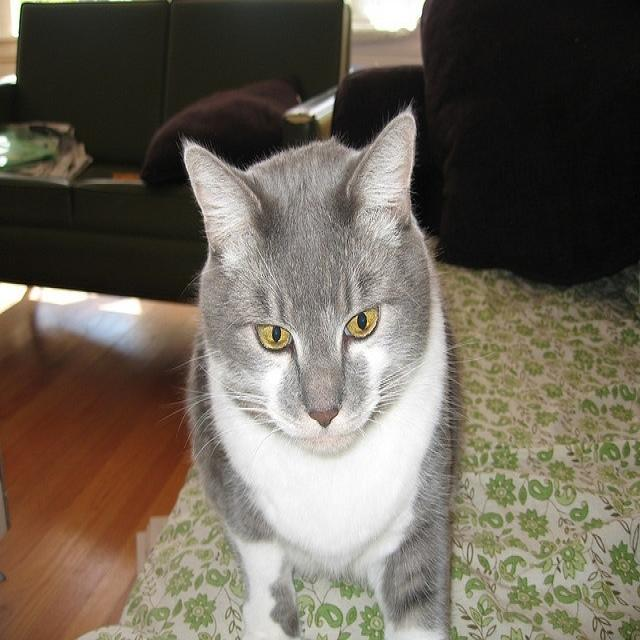cat: (168, 97, 467, 639)
